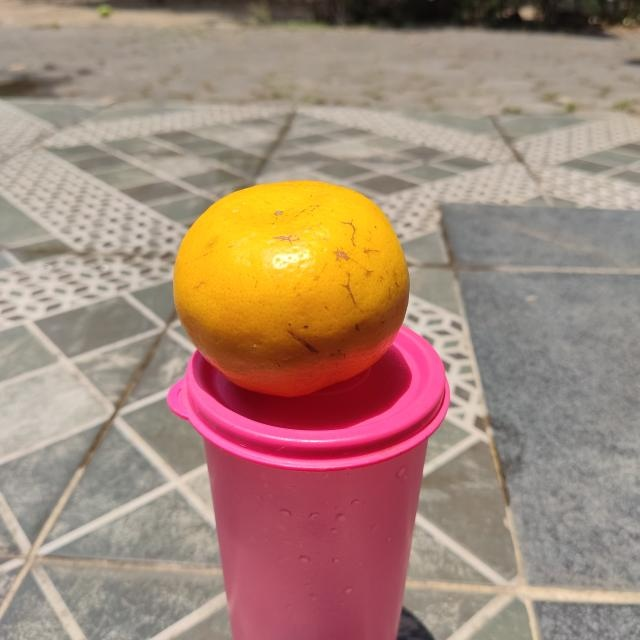agrume: (173, 181, 411, 399)
